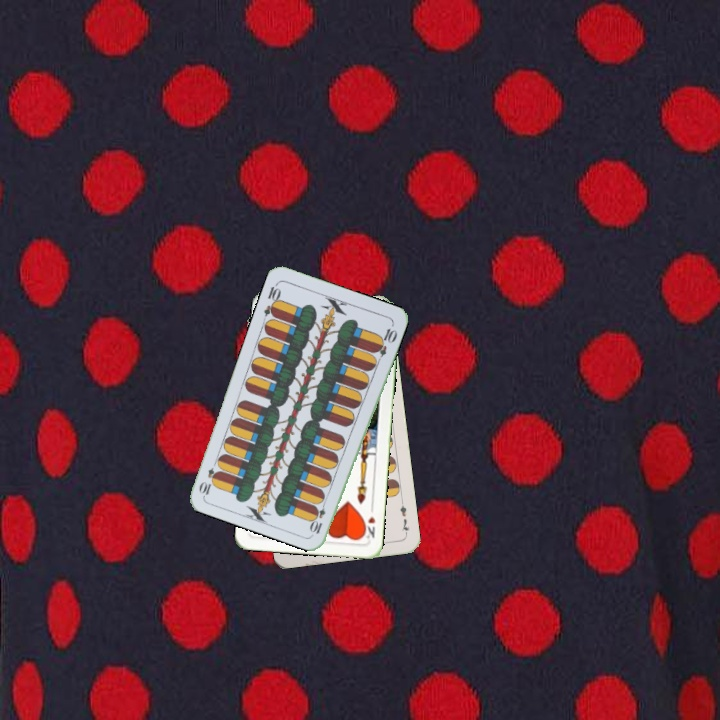E10: (259, 279, 284, 320), (307, 496, 329, 536)
E7: (396, 497, 412, 537)
HK: (359, 502, 378, 542)
